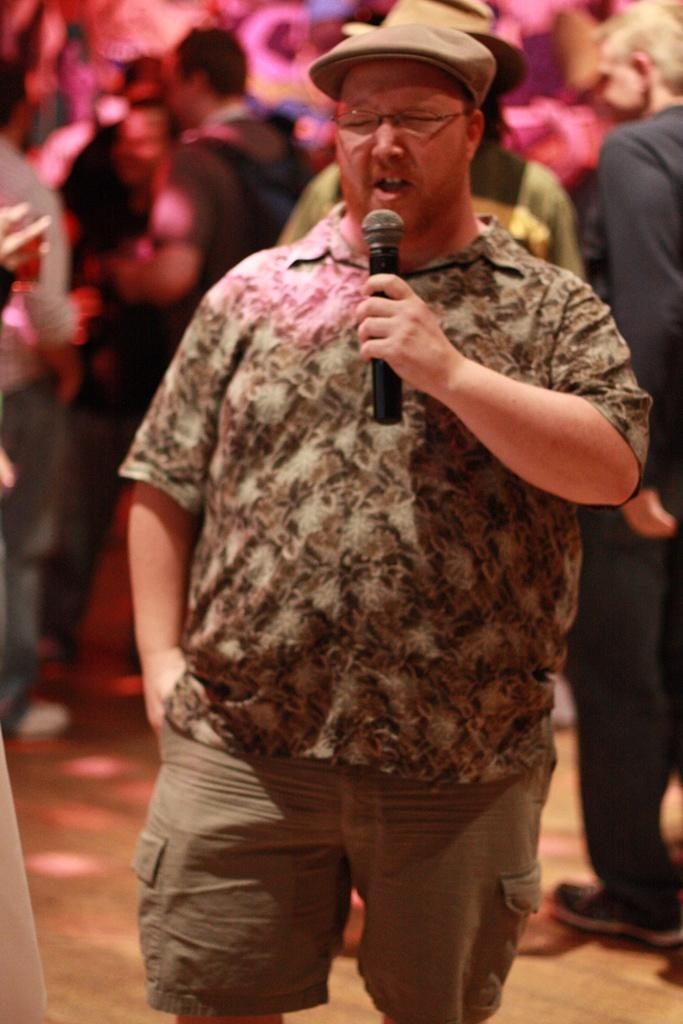Sem Máscara: (335, 41, 460, 216), (160, 57, 201, 120), (593, 50, 635, 107)
